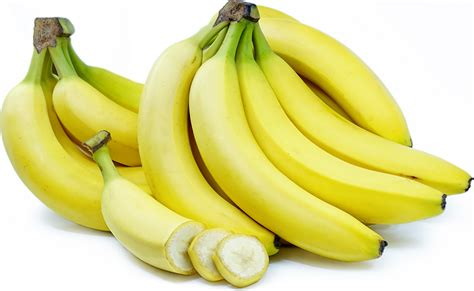banana: (186, 52, 389, 264), (234, 42, 449, 226), (254, 48, 474, 204)
